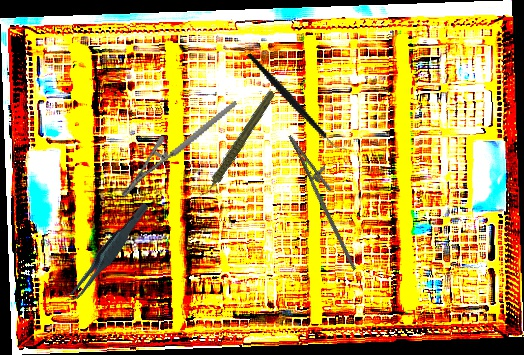Chopper: (246, 33, 348, 171)
Handpiece: (179, 88, 294, 200)
Needle Holder: (272, 127, 382, 272), (105, 100, 254, 199)
Tissue Forceps: (48, 202, 166, 305)
